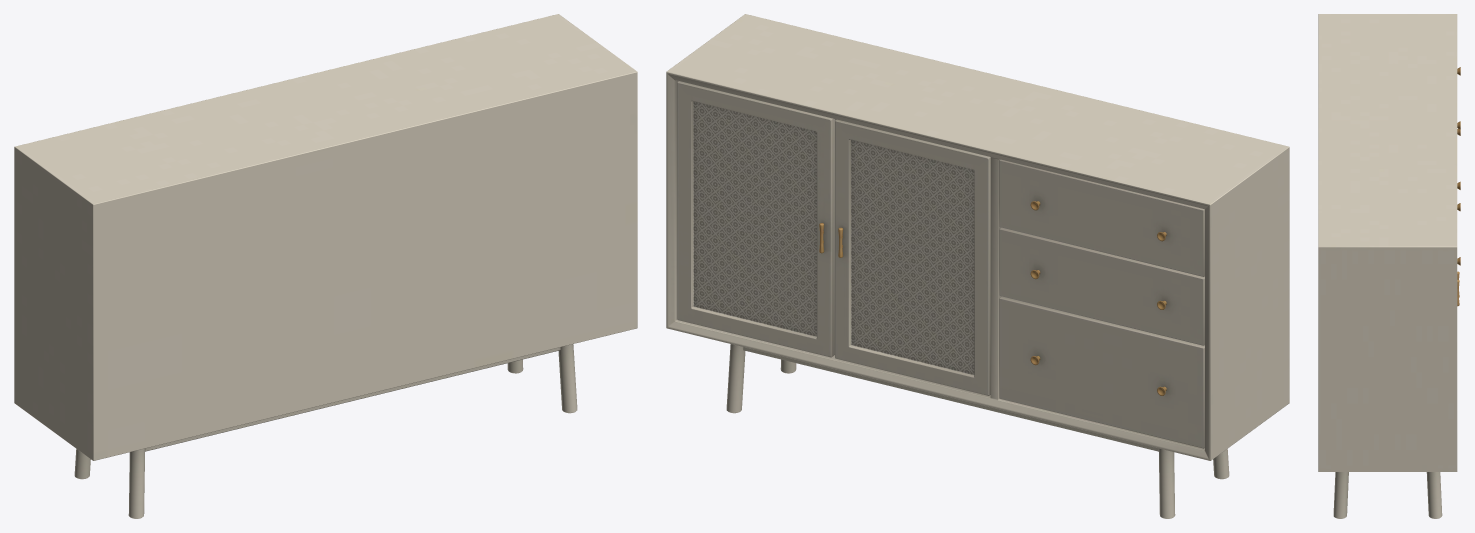
Rendered from credenza.glb.
3 views of the same model, side by side, from view 1: azimuth 30°, elevation 25°; view 2: azimuth 150°, elevation 25°; view 3: azimuth 270°, elevation 25° (orthographic). The views are drawn at different scales.
Parts seen in each view (by area): view 1: accent_cabinet_pfo_bsw; view 2: accent_cabinet_pfo_bsw; view 3: accent_cabinet_pfo_bsw.
Part boxes in pixels (box(x1,y1,x2,y2)): accent_cabinet_pfo_bsw: box(14, 14, 637, 518); accent_cabinet_pfo_bsw: box(666, 14, 1289, 518); accent_cabinet_pfo_bsw: box(1318, 14, 1460, 518).
Bounding box in the file's own units: 1.39 × 0.8129 × 0.3578.
Materials: 1 (1 with a texture image).
